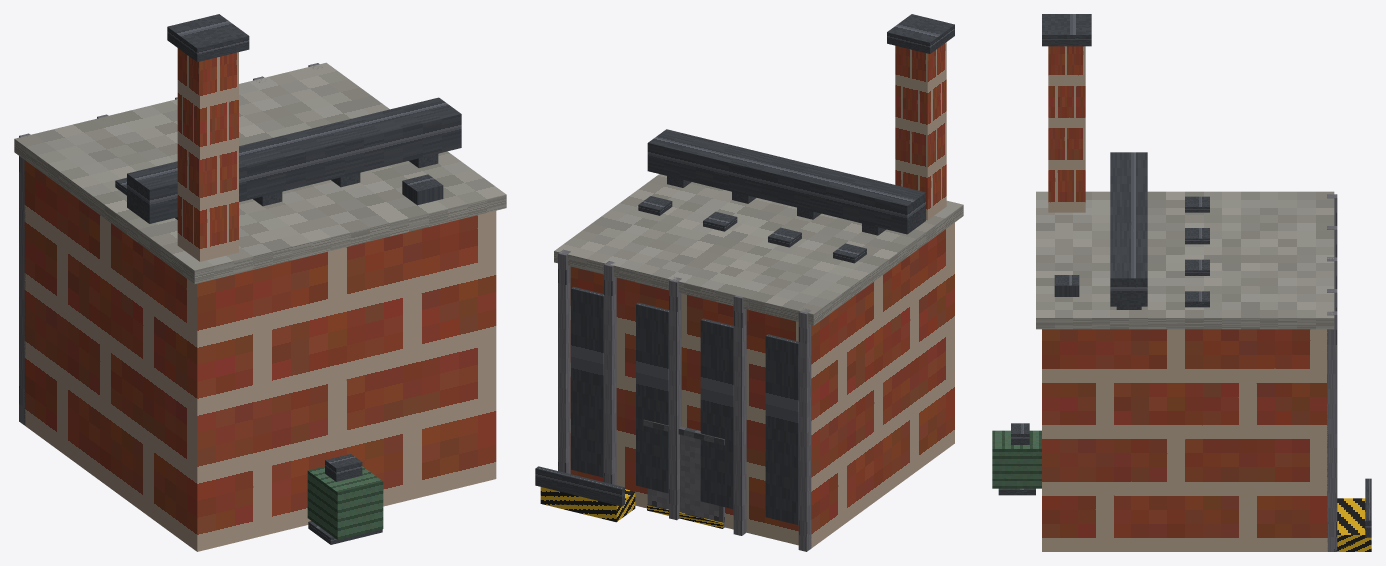
The model's file is coke_oven.obj.
3 views of the same model, side by side, from view 1: azimuth 30°, elevation 25°; view 2: azimuth 150°, elevation 25°; view 3: azimuth 270°, elevation 25° (orthographic). The views are drawn at different scales.
Visible parts, largest first — view 1: battery, top, gas_main, chimney, motor, chimney_cap, buck0, creosote_pipe, motor_box; view 2: battery, top, gas_main, chimney, door0, door1, door3, door2, buck0, buck1, buck2, buck_end (+6 smaller); view 3: battery, top, chimney, gas_main, motor, buck_end, wharf, chimney_cap, creosote_pipe.
Part boxes in pixels (x1,y1,x2,y2): battery: [24, 160, 496, 551]; top: [14, 62, 506, 284]; gas_main: [127, 97, 461, 223]; chimney: [177, 48, 238, 261]; motor: [307, 466, 383, 539]; chimney_cap: [167, 14, 249, 61]; buck0: [19, 133, 30, 425]; creosote_pipe: [402, 174, 443, 205]; motor_box: [325, 454, 362, 481]; battery: [570, 222, 954, 548]; top: [554, 174, 963, 325]; gas_main: [647, 129, 925, 234]; chimney: [895, 42, 946, 220]; door0: [765, 334, 798, 524]; door1: [700, 318, 733, 508]; door3: [571, 286, 603, 477]; door2: [636, 302, 668, 493]; buck0: [798, 308, 811, 551]; buck1: [733, 295, 746, 535]; buck2: [669, 277, 681, 520]; buck_end: [558, 249, 570, 473]; battery: [1042, 329, 1327, 551]; top: [1036, 191, 1334, 329]; chimney: [1048, 46, 1085, 212]; gas_main: [1110, 152, 1147, 306]; motor: [992, 430, 1041, 488]; buck_end: [1327, 311, 1337, 551]; wharf: [1334, 498, 1371, 551]; chimney_cap: [1042, 14, 1091, 46]; creosote_pipe: [1054, 275, 1079, 296].
Size of the model in its own units: 3 by 4.62 by 3.81.
